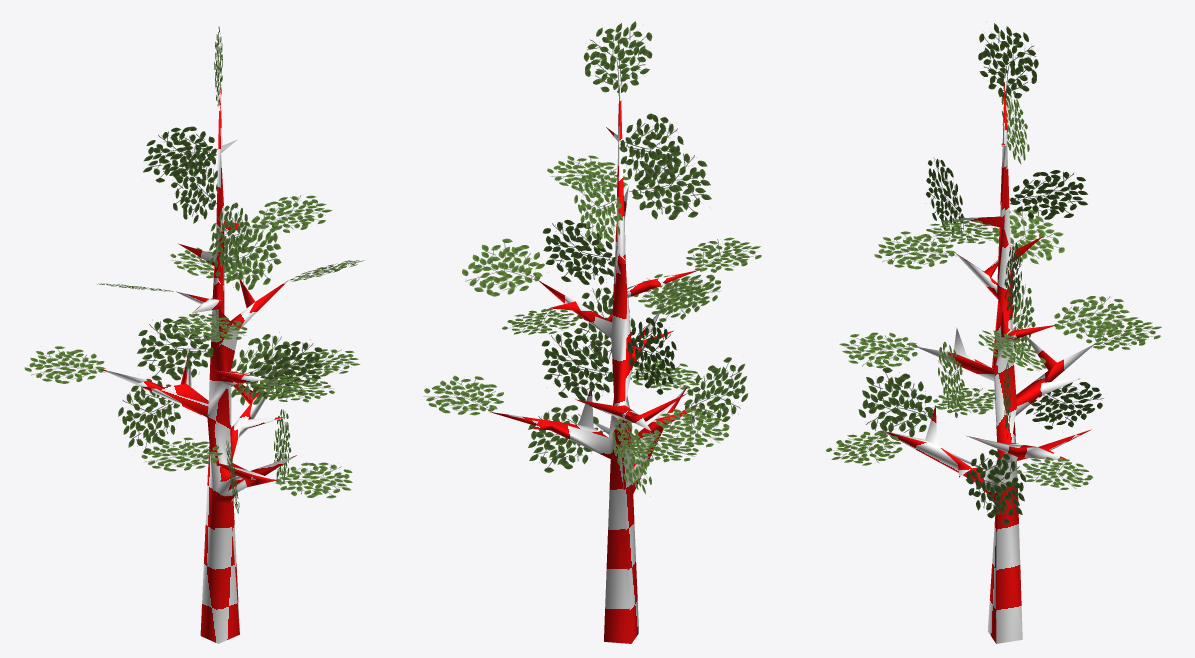
Rendered from tree2.dae.
The picture shows the model from 3 angles, left to right: view 1: azimuth 30°, elevation 25°; view 2: azimuth 150°, elevation 25°; view 3: azimuth 270°, elevation 25°; orthographic projection. The views are drawn at different scales.
Visible parts, largest first — view 1: Plane.001, Plane; view 2: Plane.001, Plane; view 3: Plane.001, Plane.
Boxes of the visible parts, x1,y1,x2,y2 form: Plane.001: (24,26,364,513); Plane: (100,75,296,643); Plane.001: (423,21,761,496); Plane: (490,62,698,643); Plane.001: (826,23,1161,524); Plane: (880,70,1095,643).
Bounding box in the file's own units: 8.9 × 8.88 × 16.13.
Materials: 2 (2 with a texture image).
